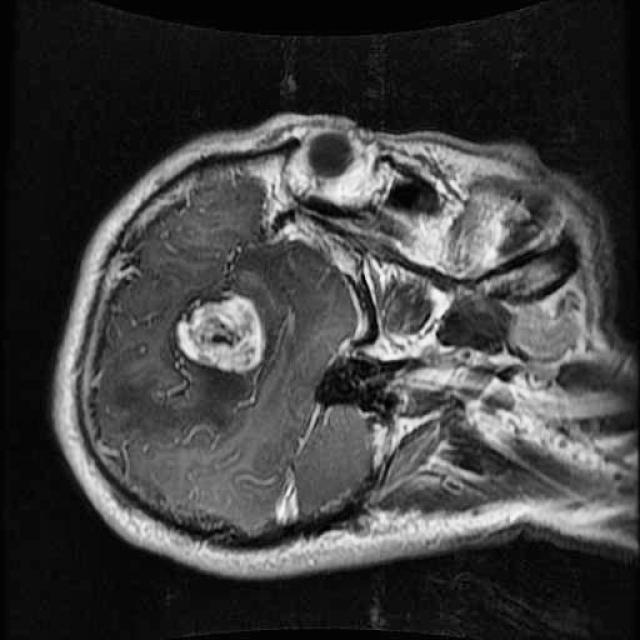Tumor: (159, 278, 282, 387)
